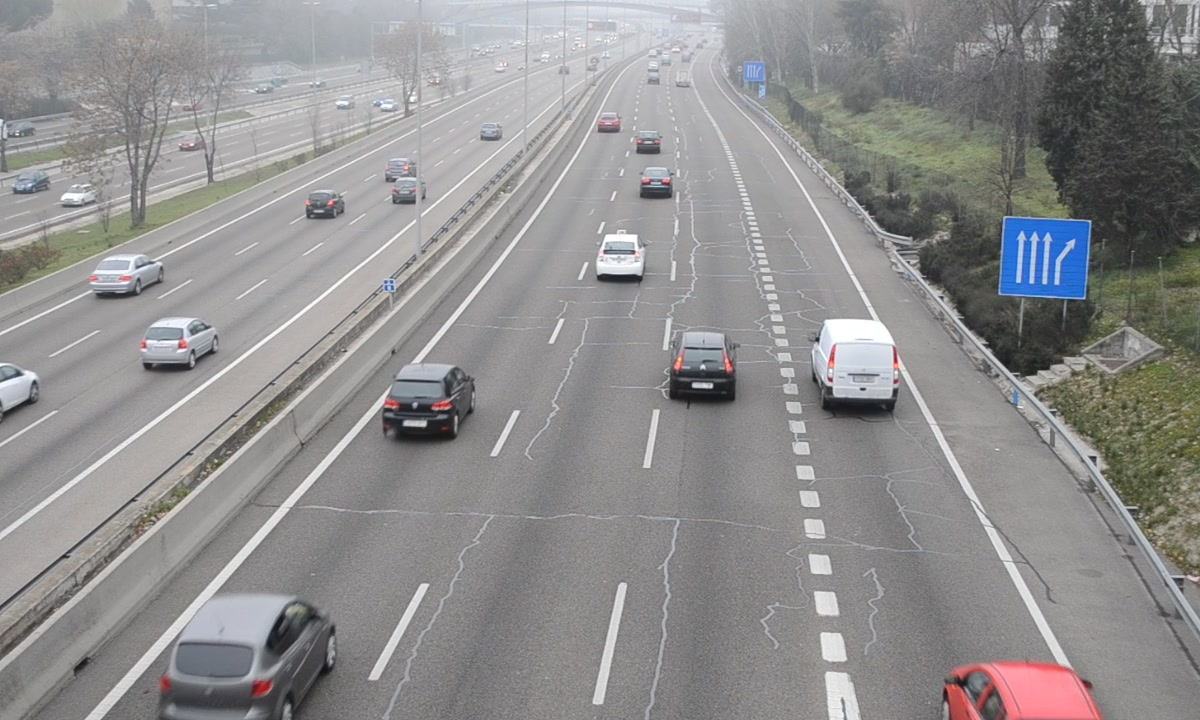car: (158, 594, 334, 720), (381, 363, 477, 434), (672, 331, 734, 399), (597, 232, 648, 277), (638, 166, 673, 198), (635, 128, 662, 154), (595, 112, 622, 134)
van: (813, 318, 901, 406)
